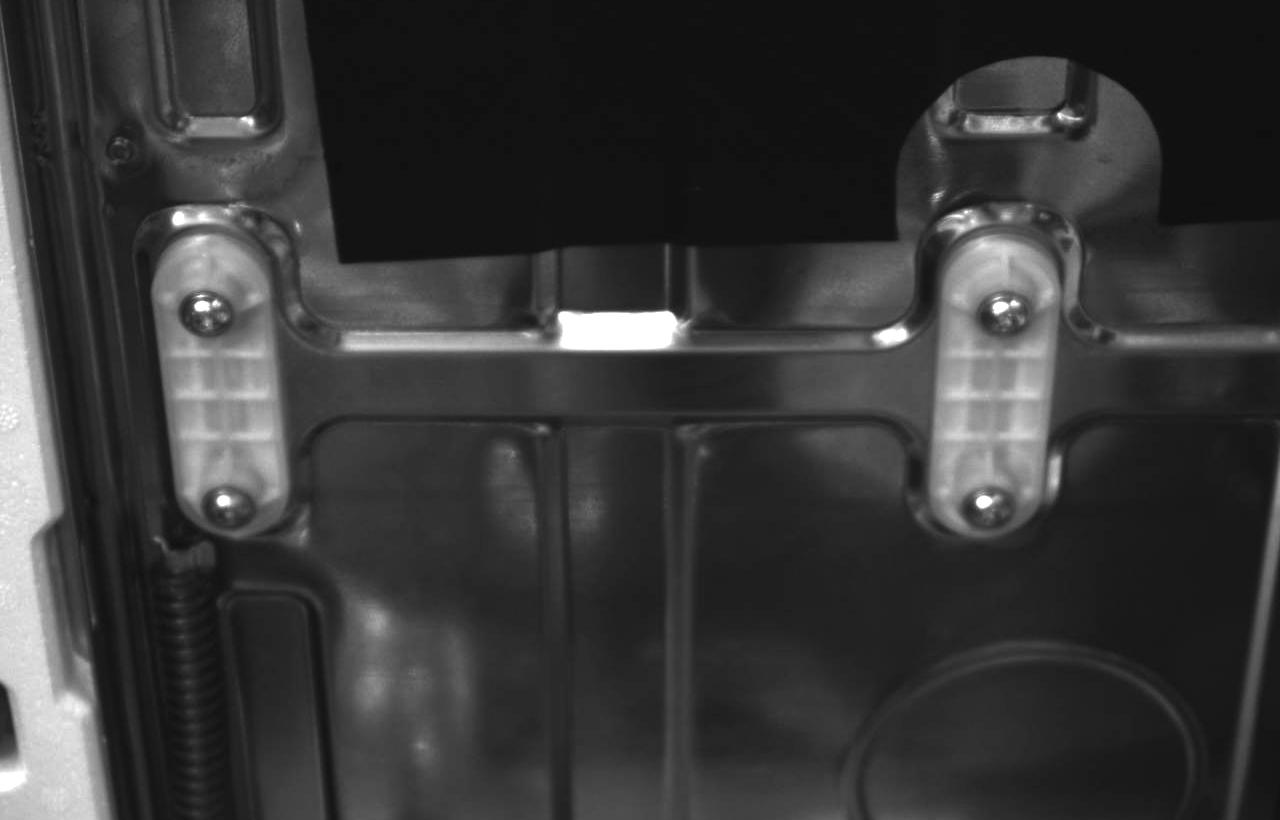vida-ok: (164, 276, 251, 353), (964, 281, 1052, 354), (185, 491, 266, 555), (947, 491, 1022, 550)
